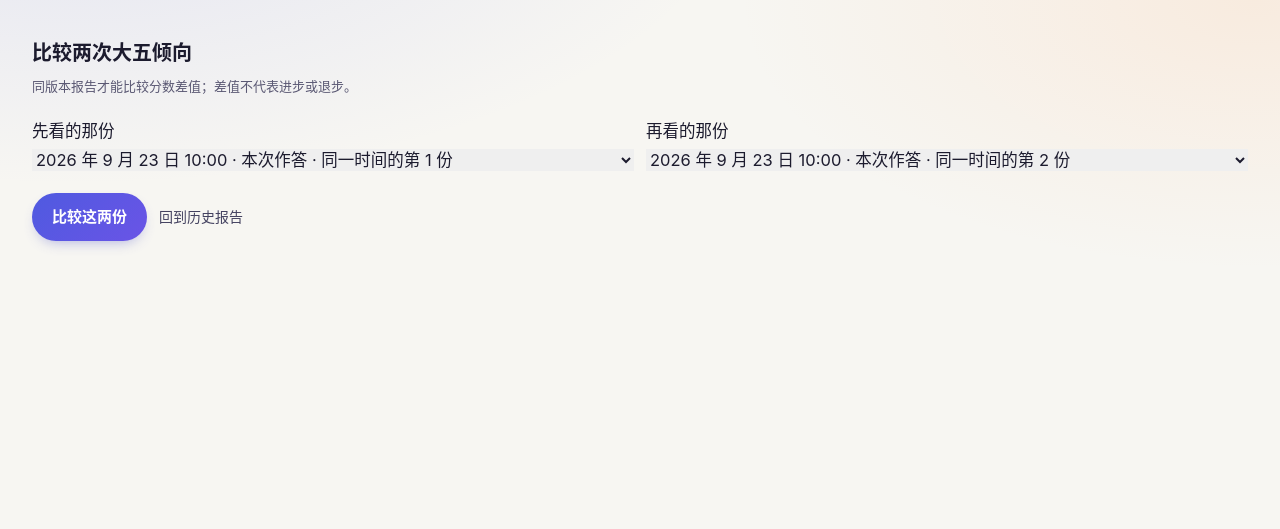
it: 大五复测比较 › 比较请求被会话确认打断后重读，仍显示差值
Click the button "比较这两份". click: (90,216)
box: 32,192 -> 147,240
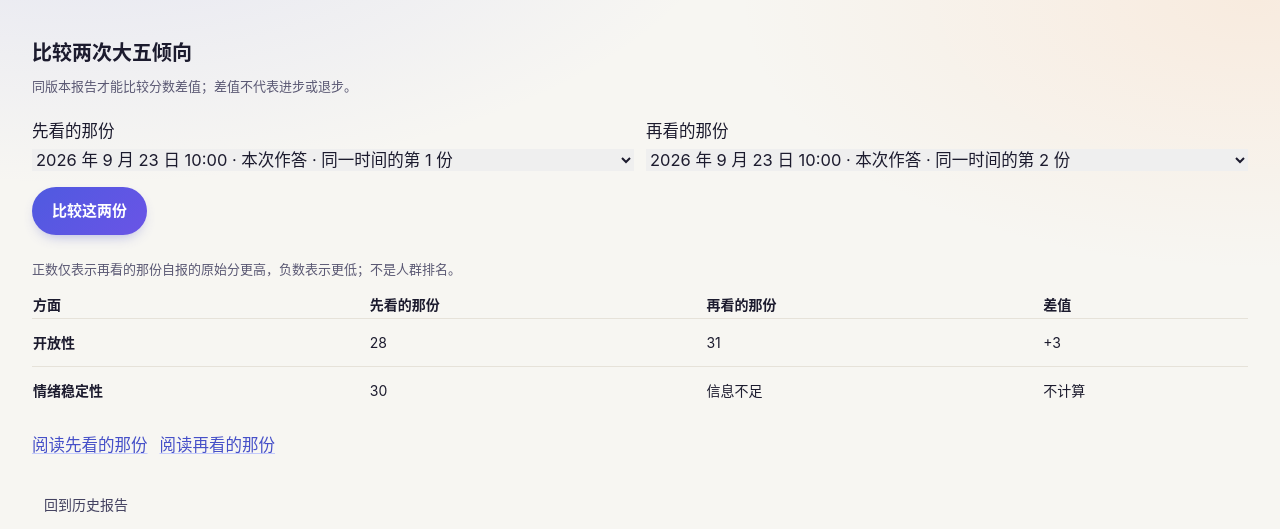
Check: the element that starts with "正数仅表示再看的那份自报的原始分更高，负数表示更低；不是人群排名。" shows "+3", box 1043,334 -> 1061,351
